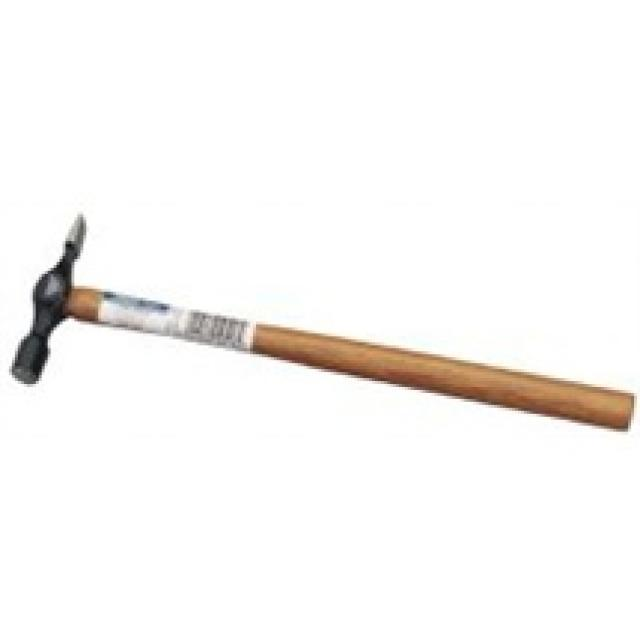hammer: (0, 200, 640, 462)
